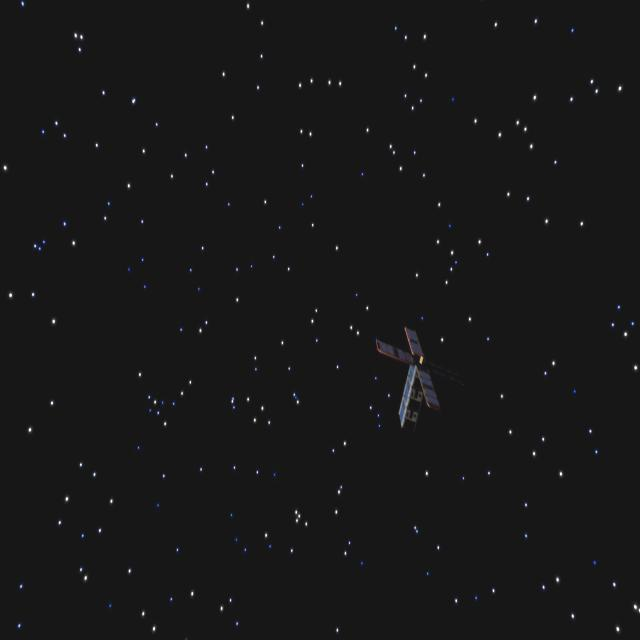satellite: (378, 310, 442, 435)
